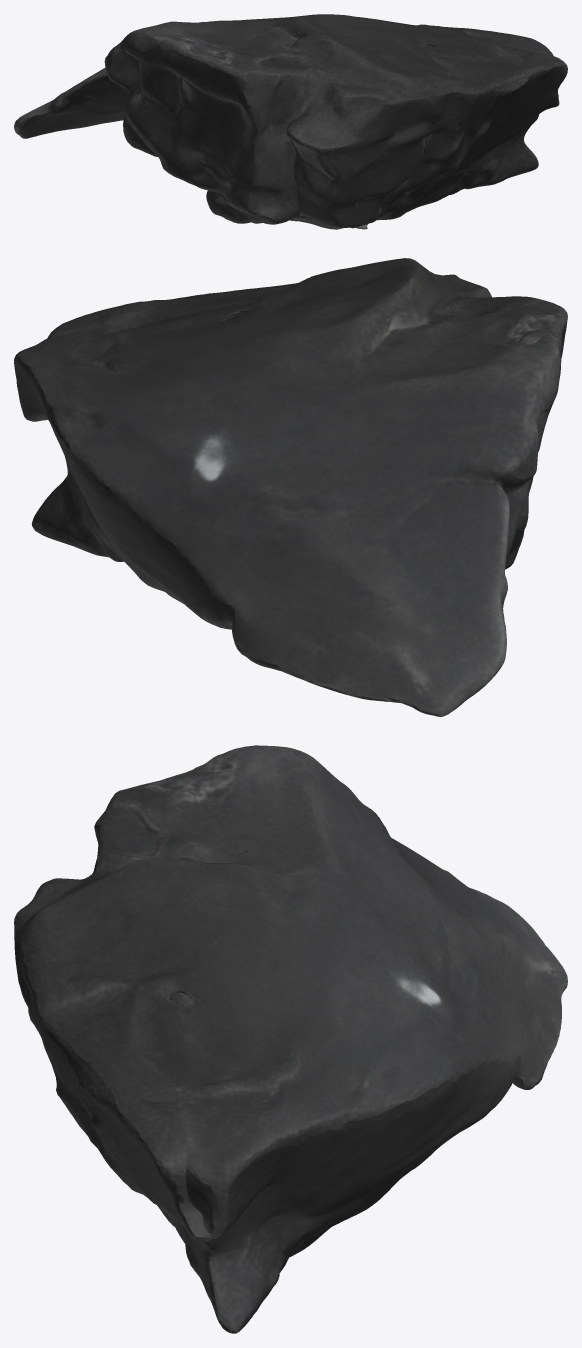
3 views of the same model, one above another, from view 1: azimuth 30°, elevation 25°; view 2: azimuth 150°, elevation 25°; view 3: azimuth 270°, elevation 25° (orthographic). The views are drawn at different scales.
Parts seen in each view (by area): view 1: world; view 2: world; view 3: world.
Boxes of the visible parts, bbox=[...] form: world: bbox=[14, 14, 567, 229]; world: bbox=[14, 258, 567, 716]; world: bbox=[14, 745, 567, 1333].
Bounding box in the file's own units: 1.2 × 0.5778 × 0.8916.
1 material, 1 textured.
